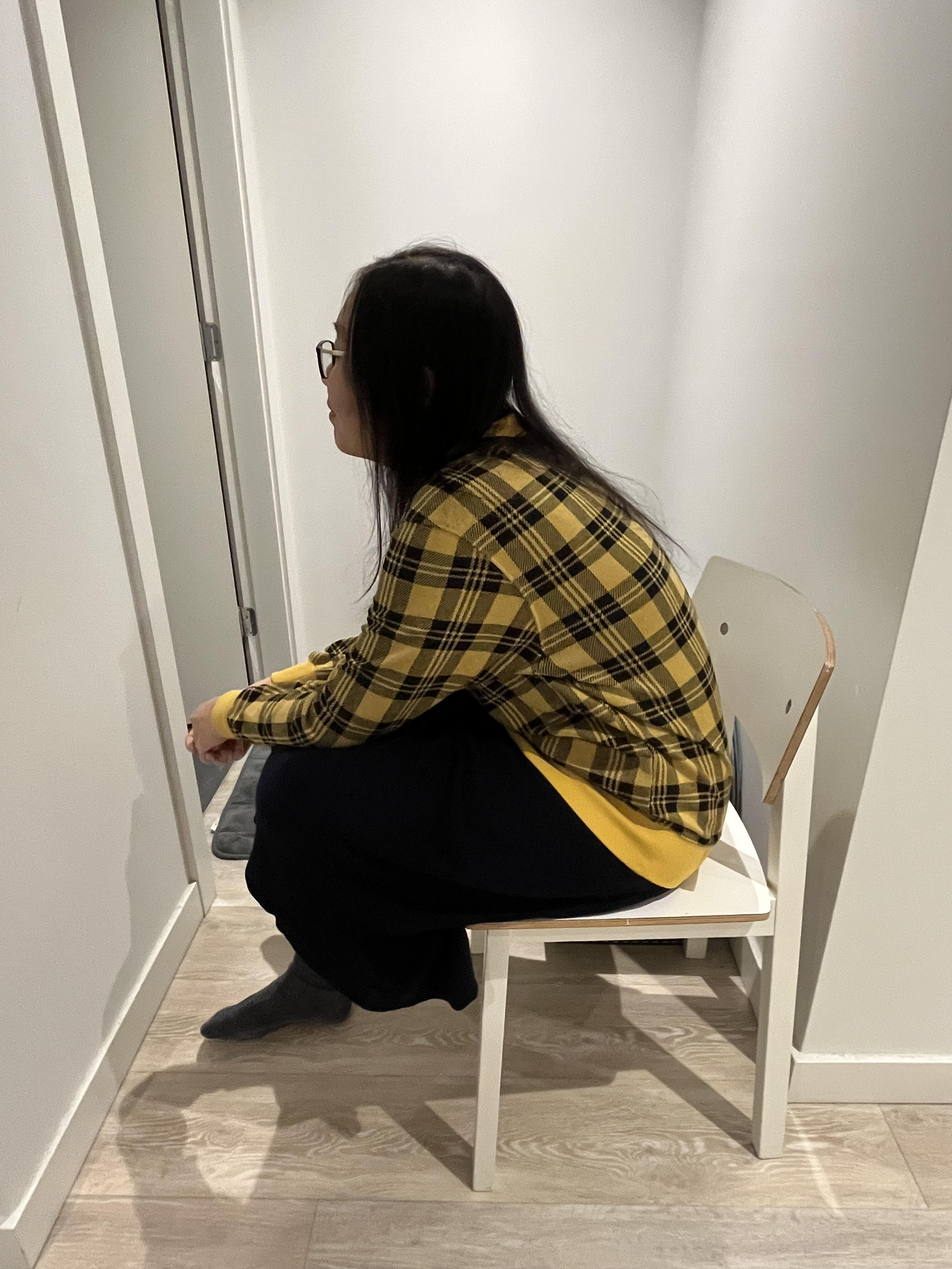BadPosture: (191, 242, 726, 1044)
